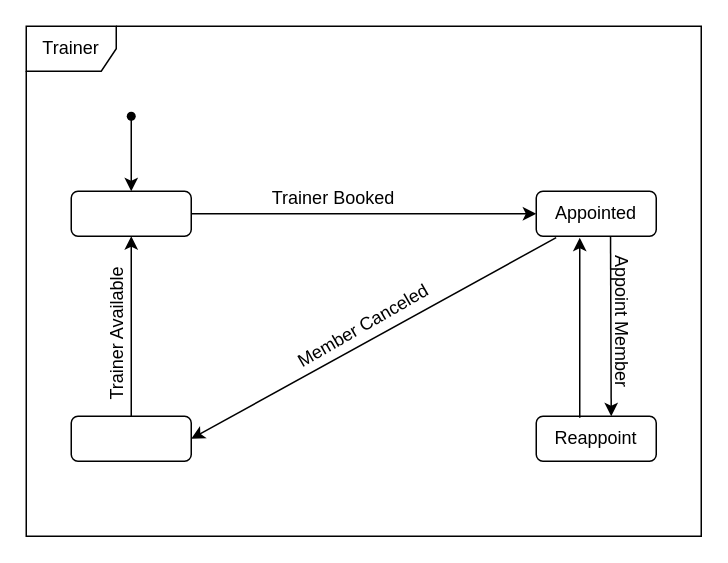
The diagram is 728 pixels wide and 563 high, and some of its shapes have lost their labels. Here are the shapes that lost their labels. From the top down, the centre of each, then its label:
[130,213]: Available
[130,438]: Cancellation
